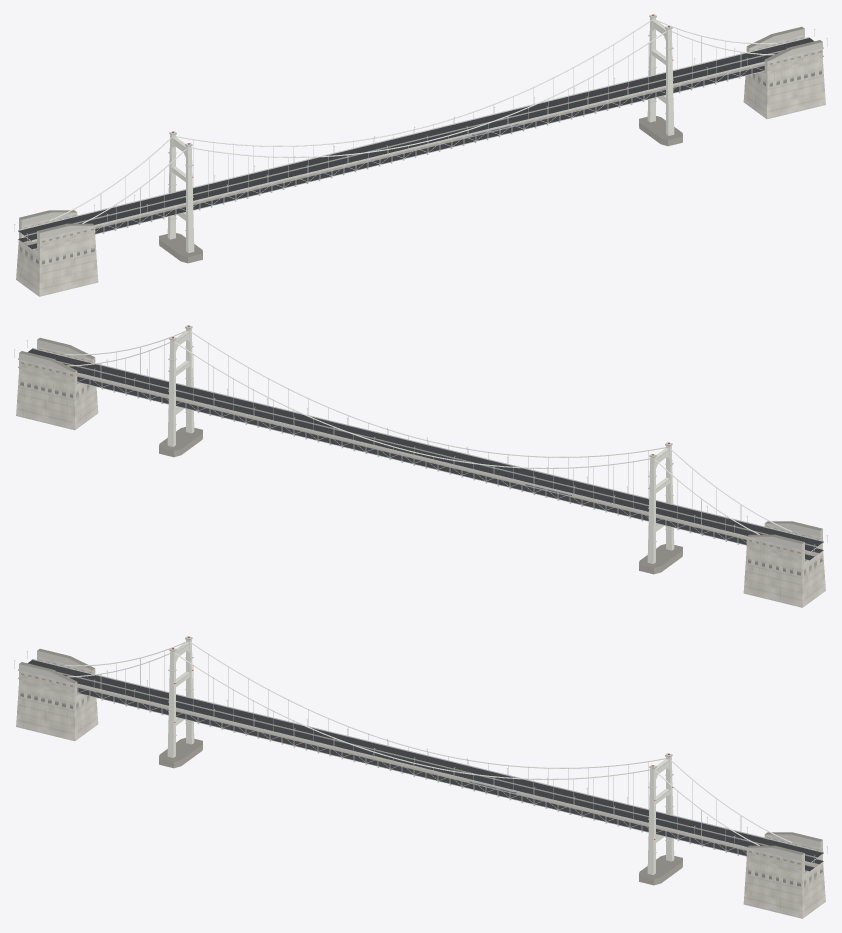
File: rainbow_bridge.glb
3 renders of one model, top to bottom at view 1: azimuth 30°, elevation 25°; view 2: azimuth 150°, elevation 25°; view 3: azimuth 330°, elevation 25°, orthographic.
Visible parts, largest first — view 1: rainbow_bridge; view 2: rainbow_bridge; view 3: rainbow_bridge.
Boxes of the visible parts, <box> form: rainbow_bridge: <box>14,14,827,296</box>; rainbow_bridge: <box>14,325,827,607</box>; rainbow_bridge: <box>14,636,827,918</box>.
Size of the model in its own units: 950 by 129 by 59.99.
2 materials, 2 textured.
